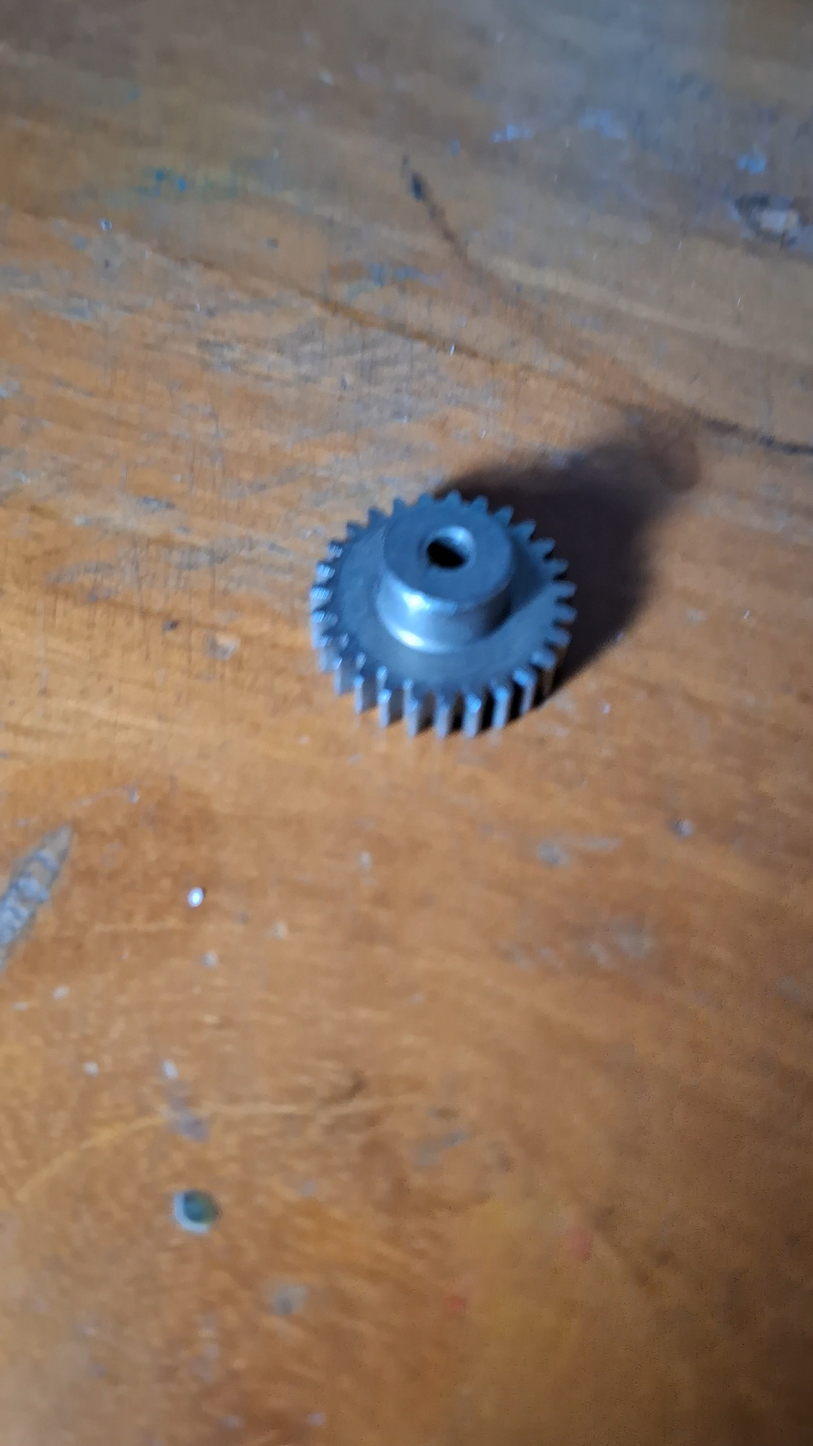spur gear: (311, 492, 575, 735)
